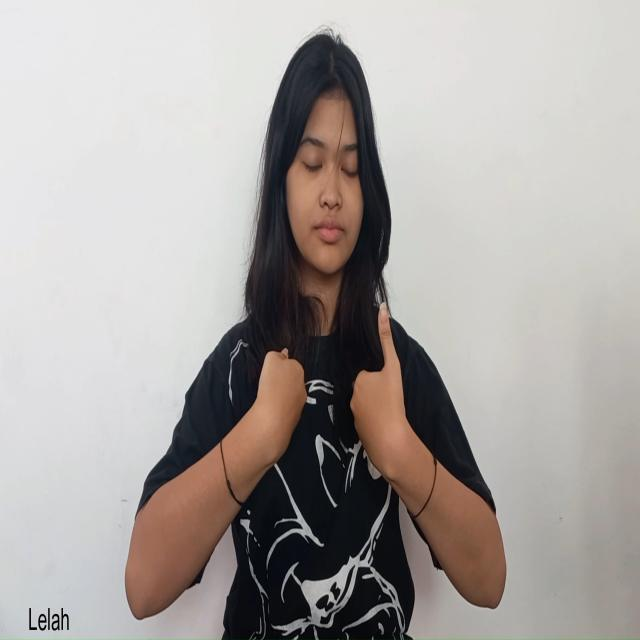Lelah -BISINDO-: (254, 301, 406, 487)
